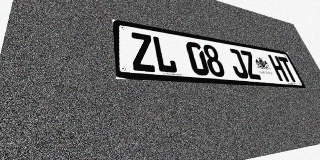0: (185, 41, 210, 76)
8: (201, 44, 226, 77)
H: (268, 55, 290, 82)
J: (226, 48, 250, 79)
L: (151, 35, 178, 74)
T: (278, 56, 299, 82)
Z: (129, 32, 157, 72), (239, 50, 262, 80)
